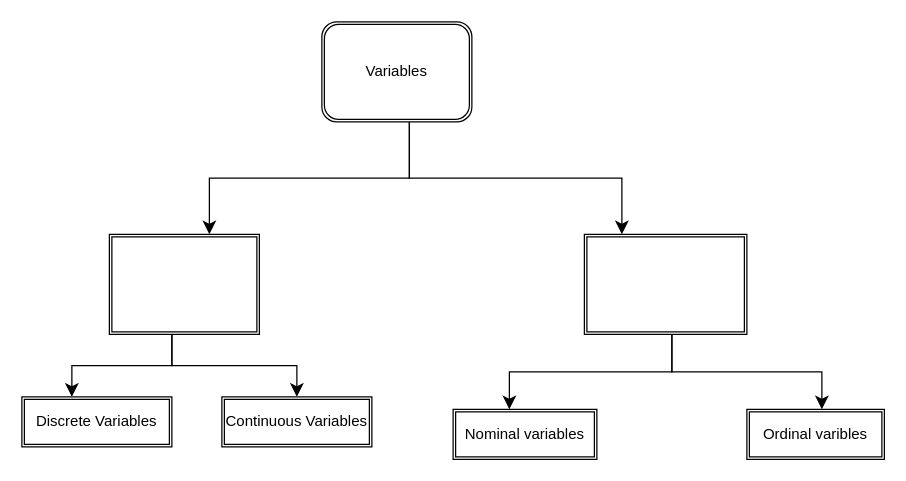
This 906x481 diagram has some shape labels left out. The shapes that lost their labels are listed below. From the top down, each one's box as (x1, y1, x2, y2) in pixels, then its label:
(108, 233, 259, 334): Numerical Variables
(583, 233, 747, 334): Categorical Variables
